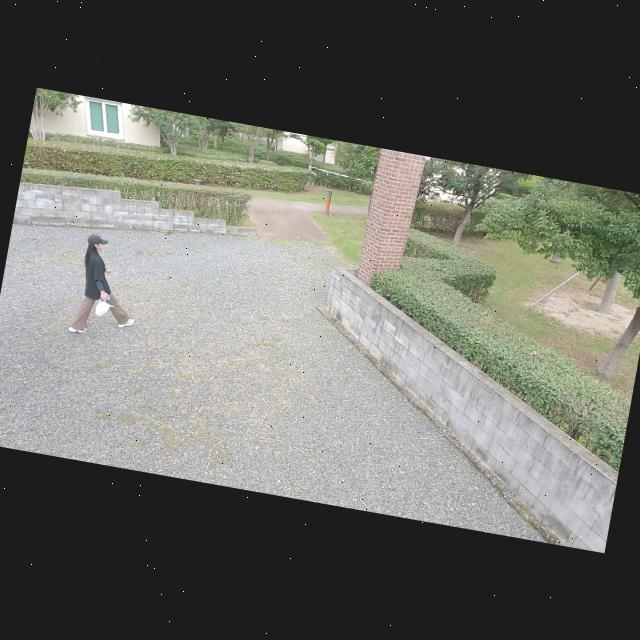trash: (60, 225, 164, 336), (62, 228, 150, 336), (64, 228, 150, 335)
